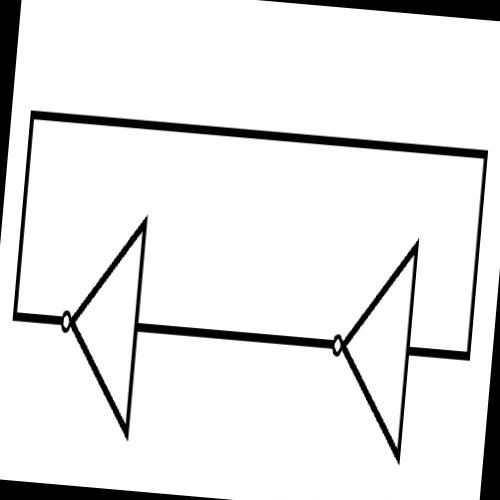not: (316, 222, 426, 476), (47, 200, 156, 450)
